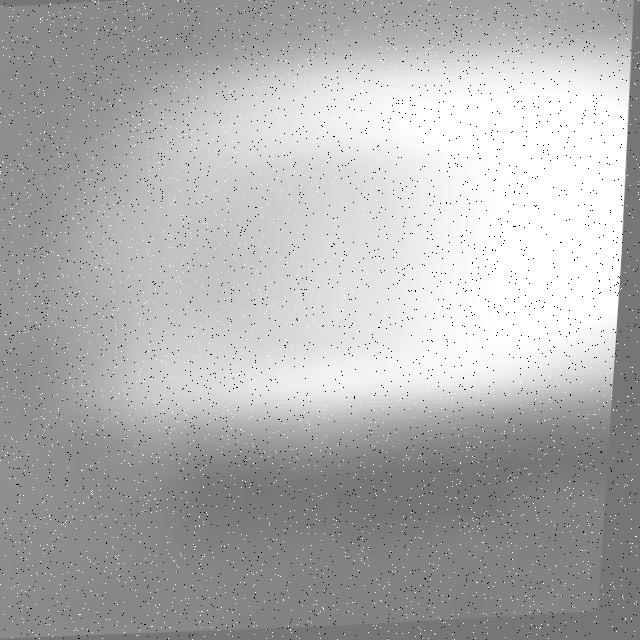person: (115, 45, 638, 461)
